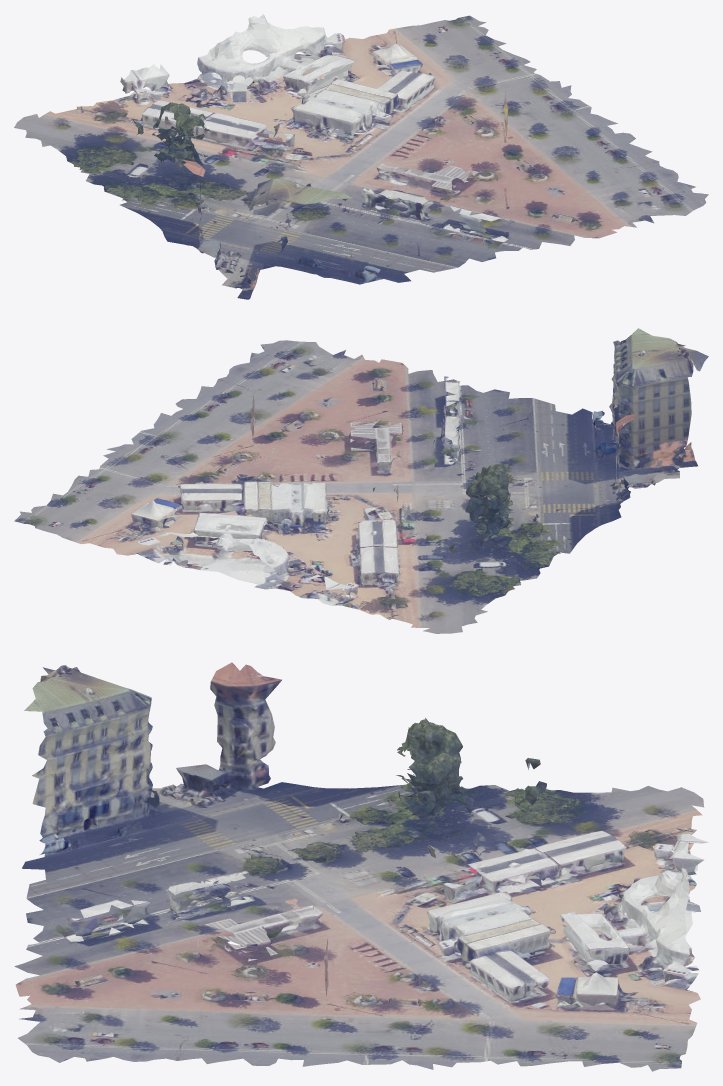
3 views of the same model, one above another, from view 1: azimuth 30°, elevation 25°; view 2: azimuth 150°, elevation 25°; view 3: azimuth 270°, elevation 25° (orthographic). The views are drawn at different scales.
Size of the model in its own units: 107 by 22.67 by 108.
Materials: 1 (1 with a texture image).
